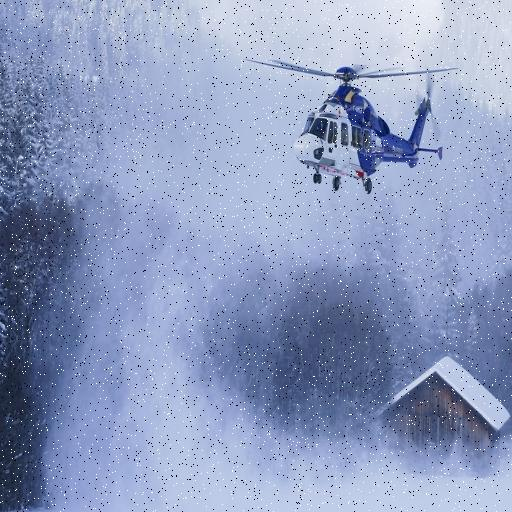helicopter: (242, 56, 460, 196)
